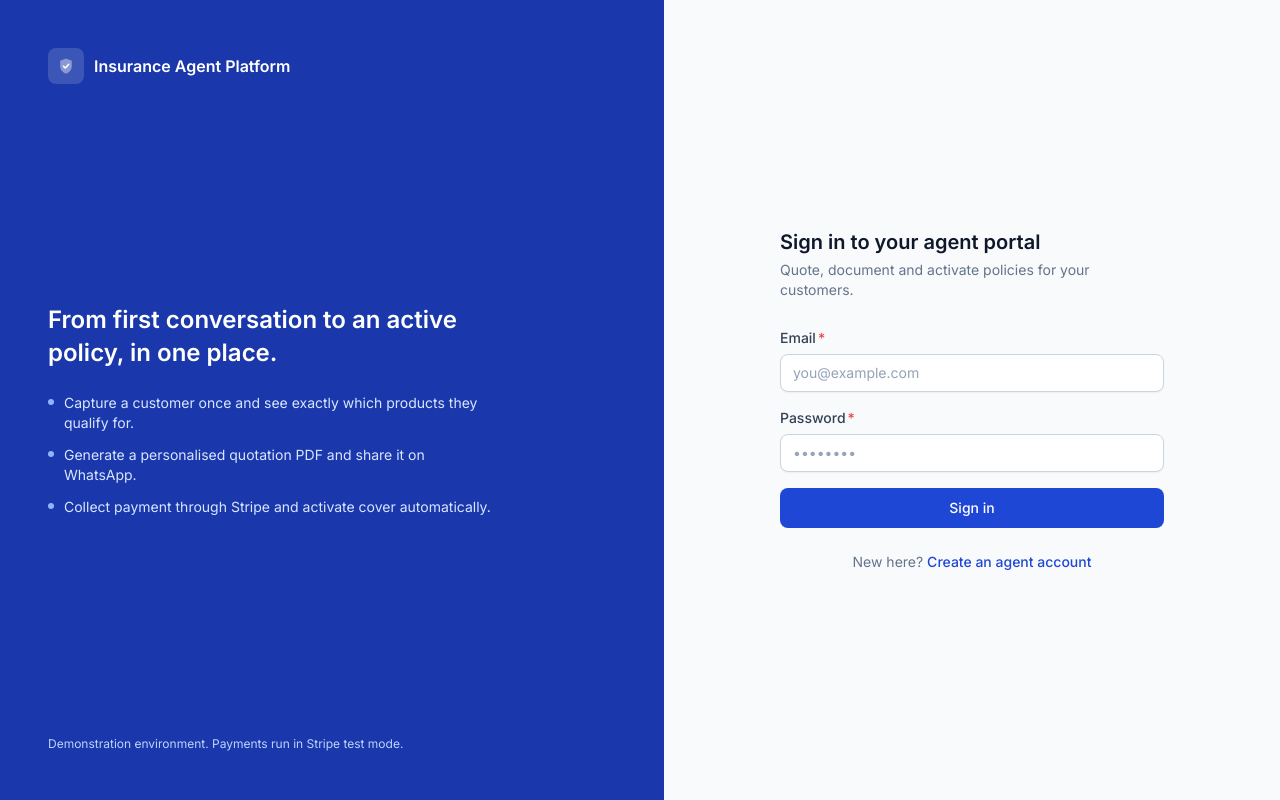
Test: <LoginPage /> › surfaces the server message when credentials are rejected
Type "demo@example.com" into the field labelled "Email*" at (972, 373), box [780,354,1164,392]
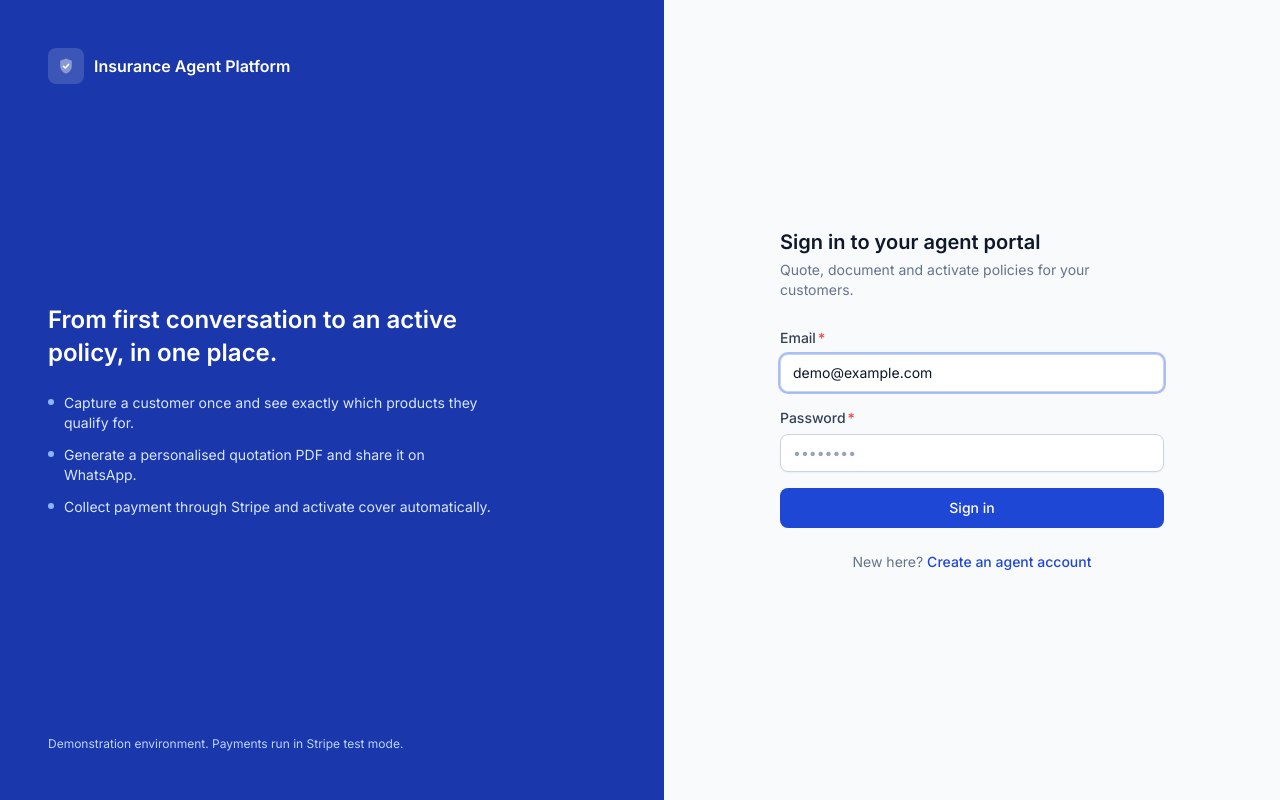
Type "WrongPassword1" into the password field labelled "Password*" at (972, 453), box [780,434,1164,472]
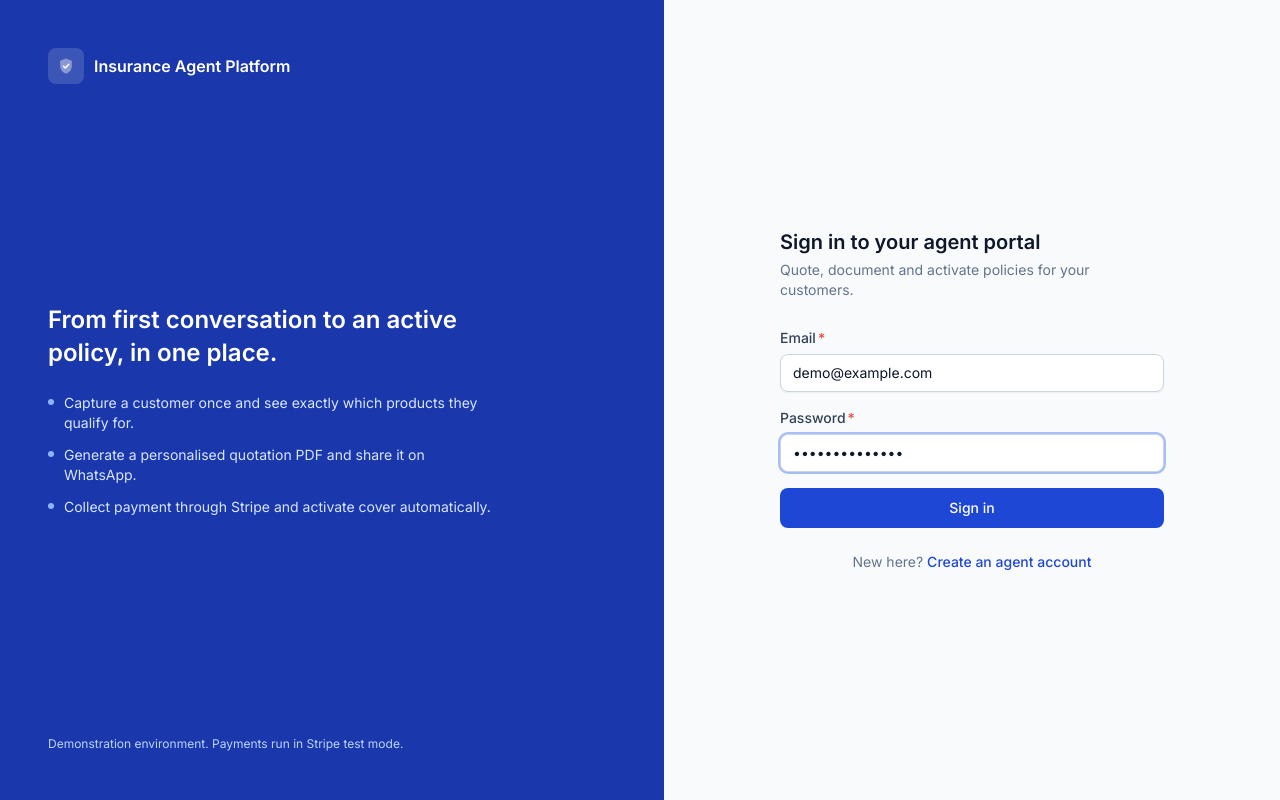
Click the button "Sign in" at (972, 508), box [780,488,1164,528]
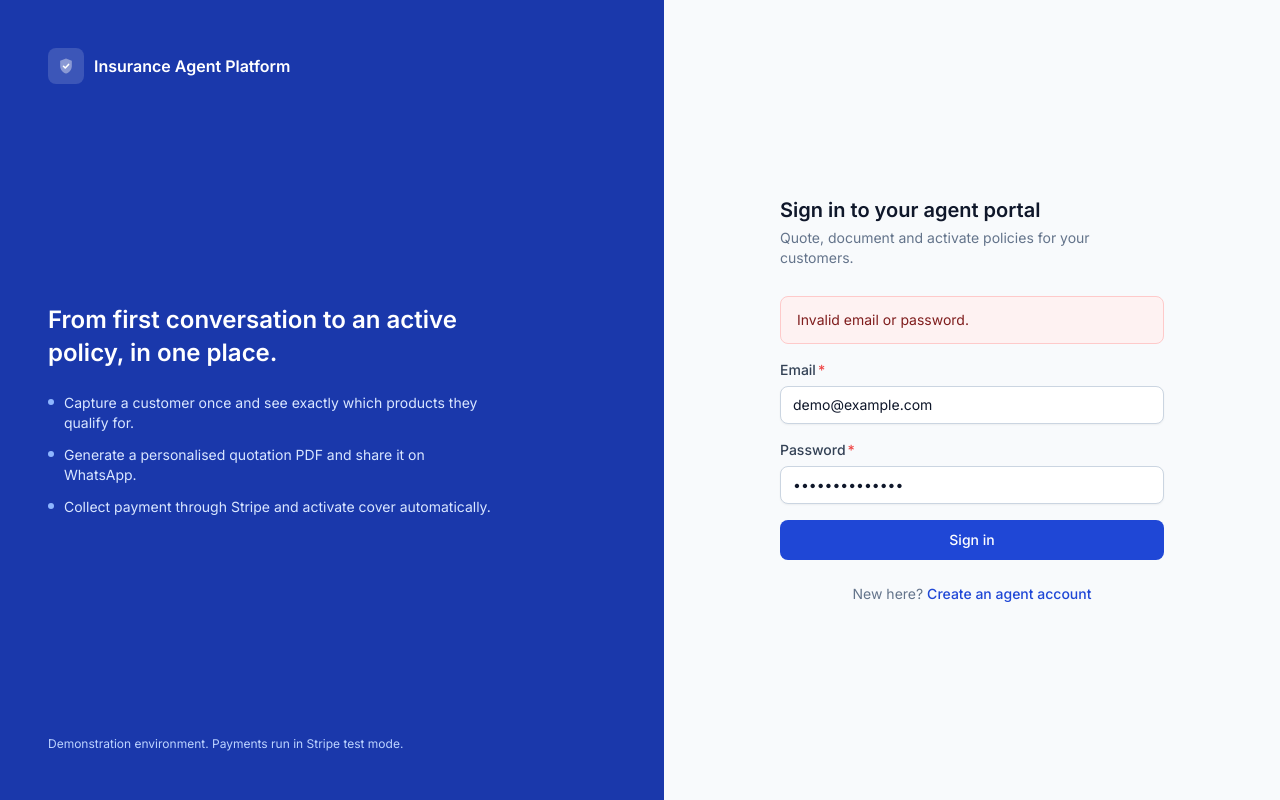
Expected: the text "Invalid email or password." is shown, [797,311,969,328]
